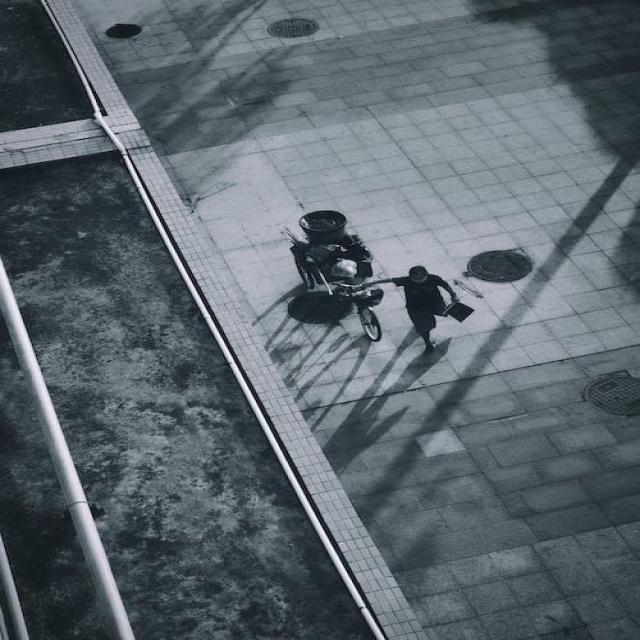trash: (294, 212, 374, 294)
